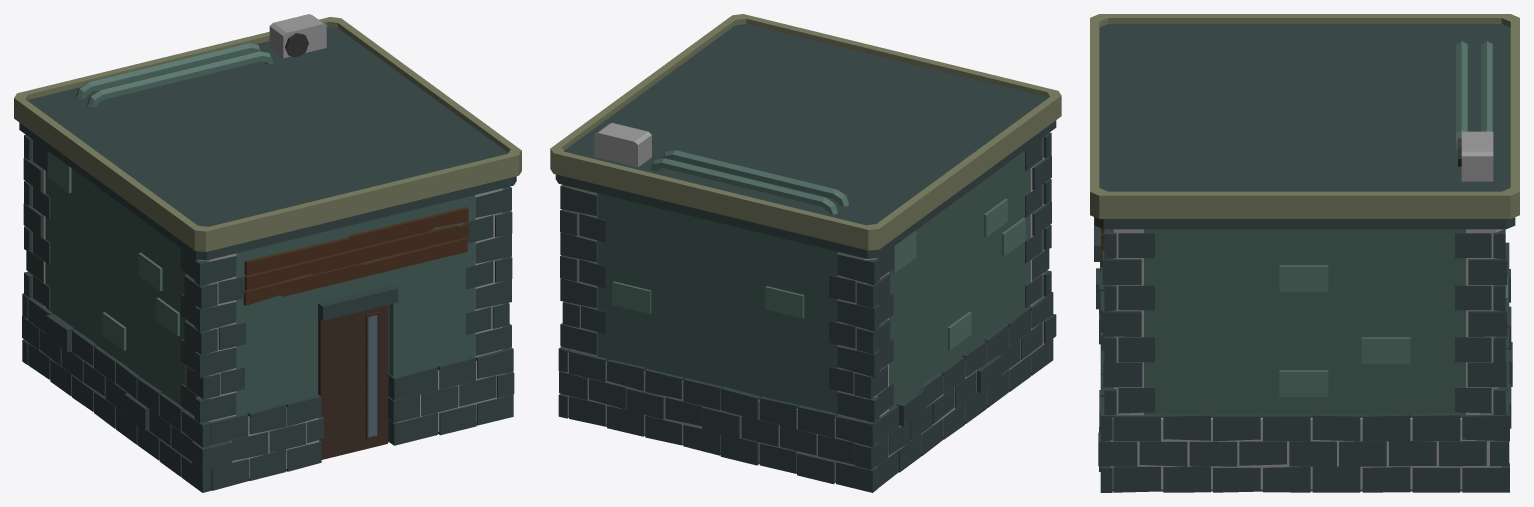
Rendered from 1Story_Sign.glb.
The picture shows the model from 3 angles, left to right: view 1: azimuth 30°, elevation 25°; view 2: azimuth 150°, elevation 25°; view 3: azimuth 270°, elevation 25°; orthographic projection. The views are drawn at different scales.
Parts seen in each view (by area): view 1: 1Story_Sign_Mat; view 2: 1Story_Sign_Mat; view 3: 1Story_Sign_Mat.
Boxes of the visible parts, bbox=[...] form: 1Story_Sign_Mat: bbox=[14, 14, 521, 492]; 1Story_Sign_Mat: bbox=[550, 14, 1061, 492]; 1Story_Sign_Mat: bbox=[1090, 14, 1519, 492].
Bounding box in the file's own units: 2.15 × 1.79 × 2.15.
